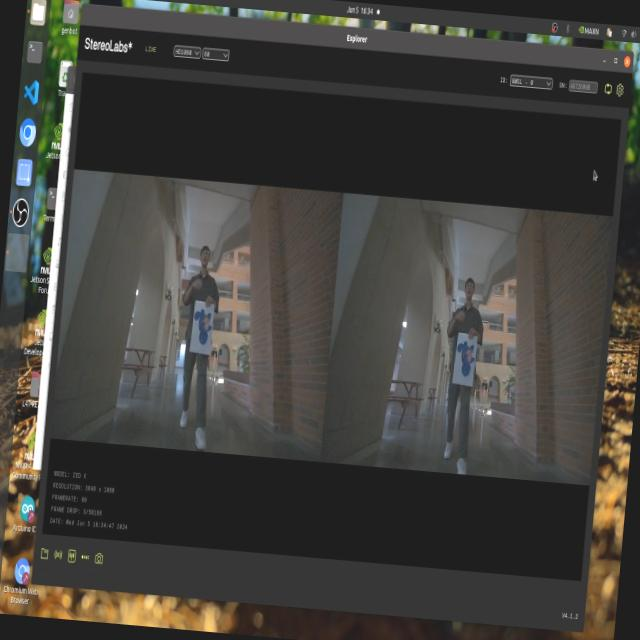blue: (188, 296, 218, 351), (450, 337, 480, 389)
